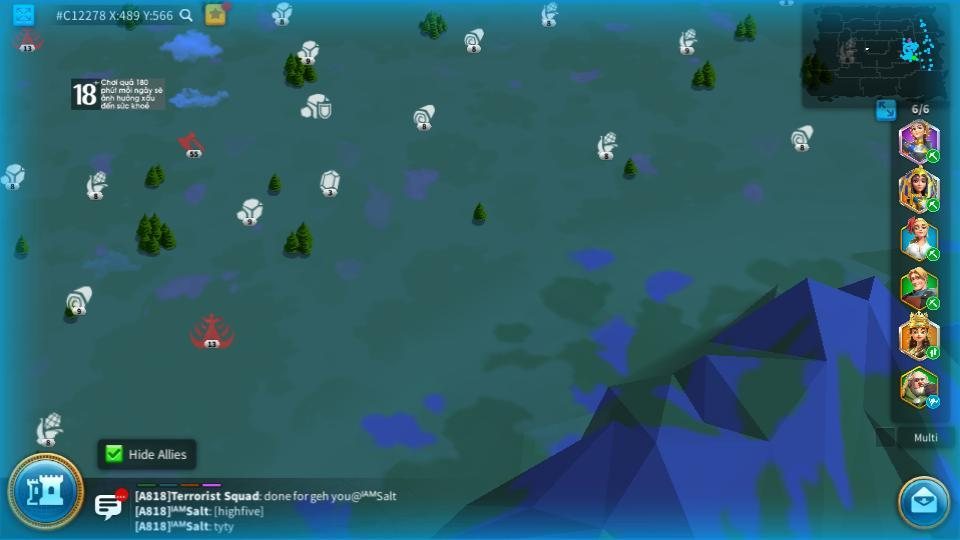gem-z-out: (318, 170, 341, 194)
march_marching: (925, 197, 941, 212), (925, 345, 941, 359), (925, 297, 941, 310), (925, 395, 942, 407)
